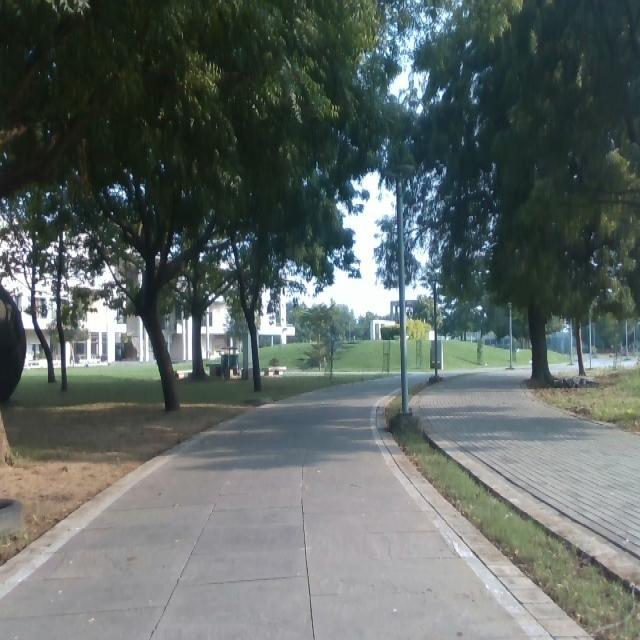lane: (4, 375, 531, 638)
